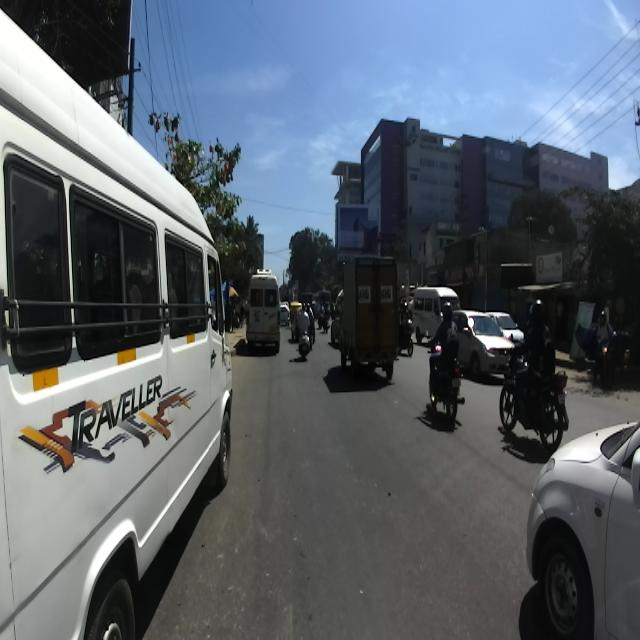auto ahead at: (334, 253, 402, 387)
bus ahead at: (0, 18, 234, 640), (241, 264, 285, 364)
car ahead at: (522, 420, 640, 637)
